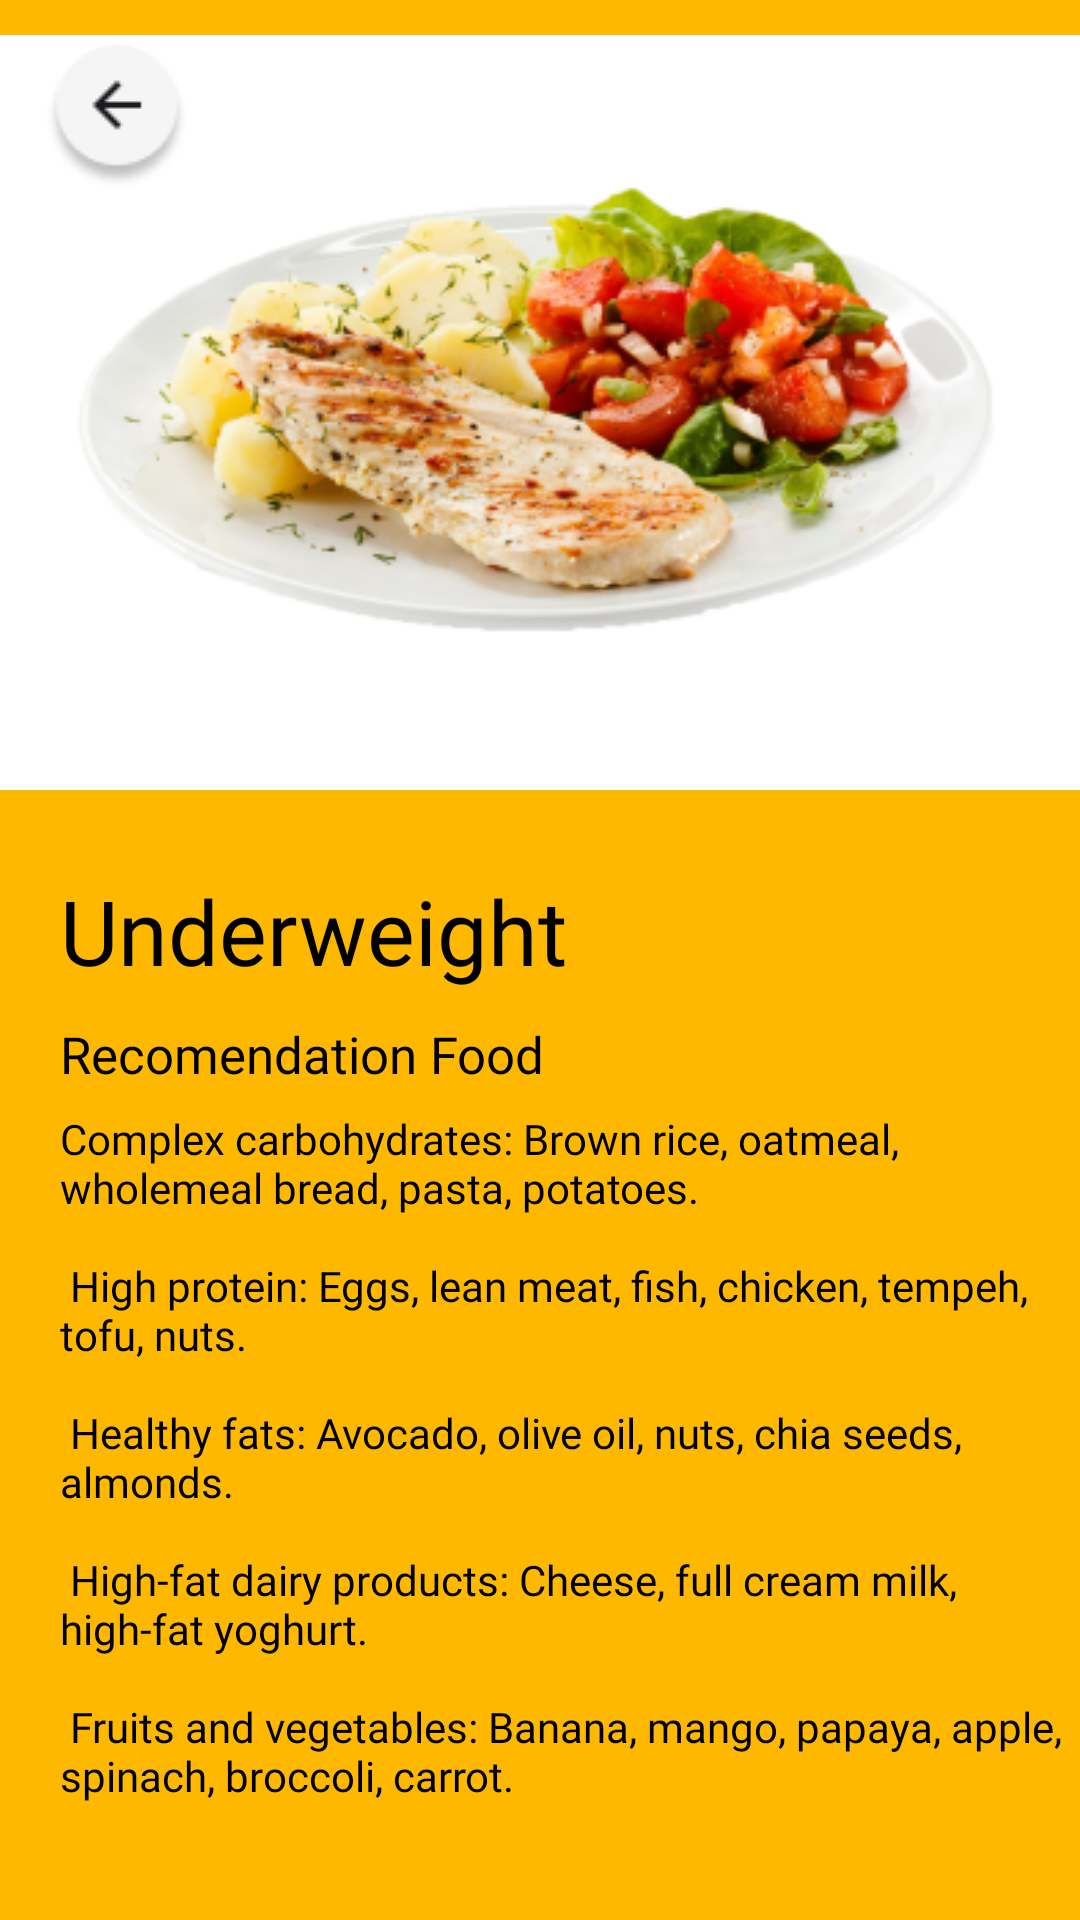

Screen size 1080px×1920px. Icon name, then its center in pixels as (x,y):
back: (117,114)
